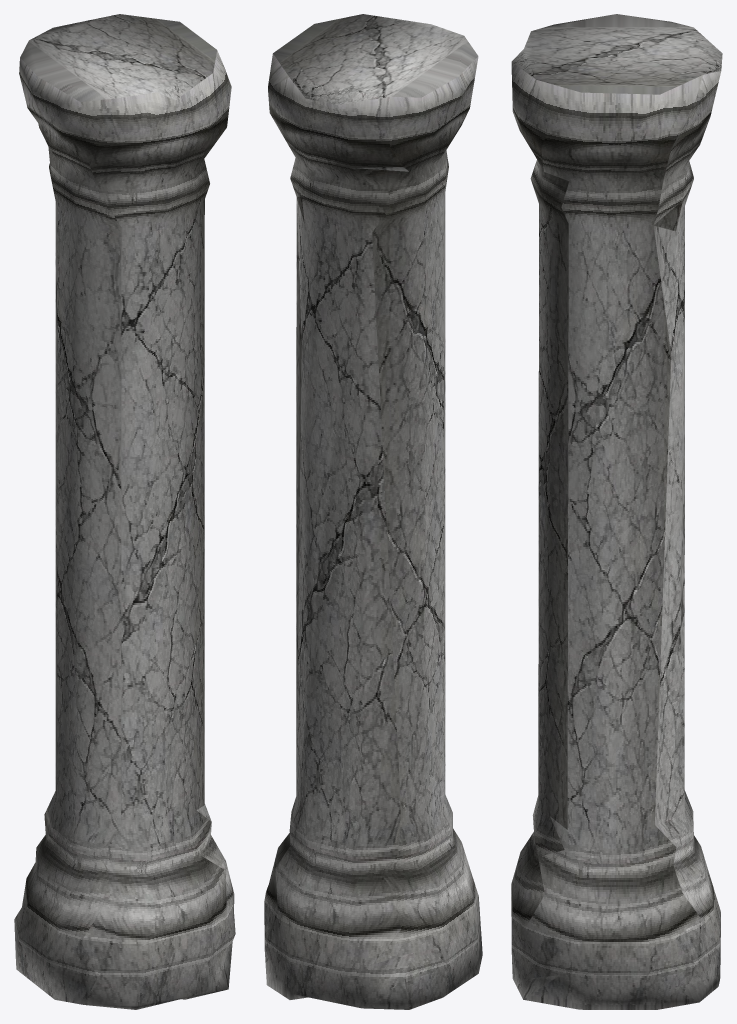
The model's file is pillar_med.glb.
3 renders of one model, left to right at view 1: azimuth 30°, elevation 25°; view 2: azimuth 150°, elevation 25°; view 3: azimuth 270°, elevation 25°, orthographic.
Visible parts, largest first — view 1: pillar_med; view 2: pillar_med; view 3: pillar_med.
Part boxes in pixels (x1,y1,x2,y2): pillar_med: (14, 14, 235, 1009); pillar_med: (264, 14, 482, 1009); pillar_med: (511, 14, 722, 1009).
Bounding box in the file's own units: 0.6721 × 3.21 × 0.6715.
Materials: 1 (1 with a texture image).
